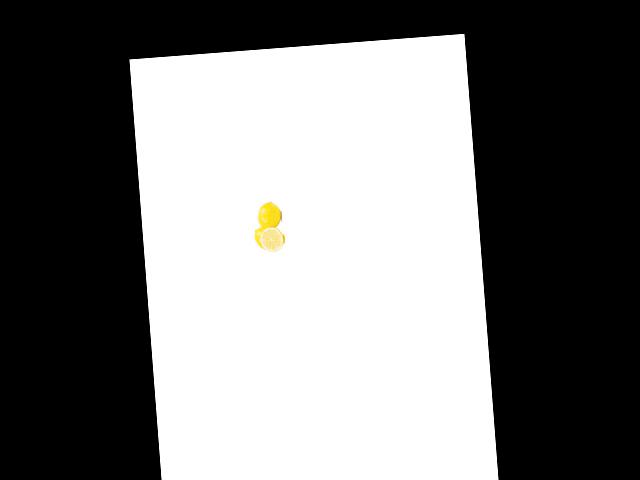lemon: (251, 224, 278, 256)
